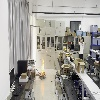fire: (40, 57, 45, 75)
